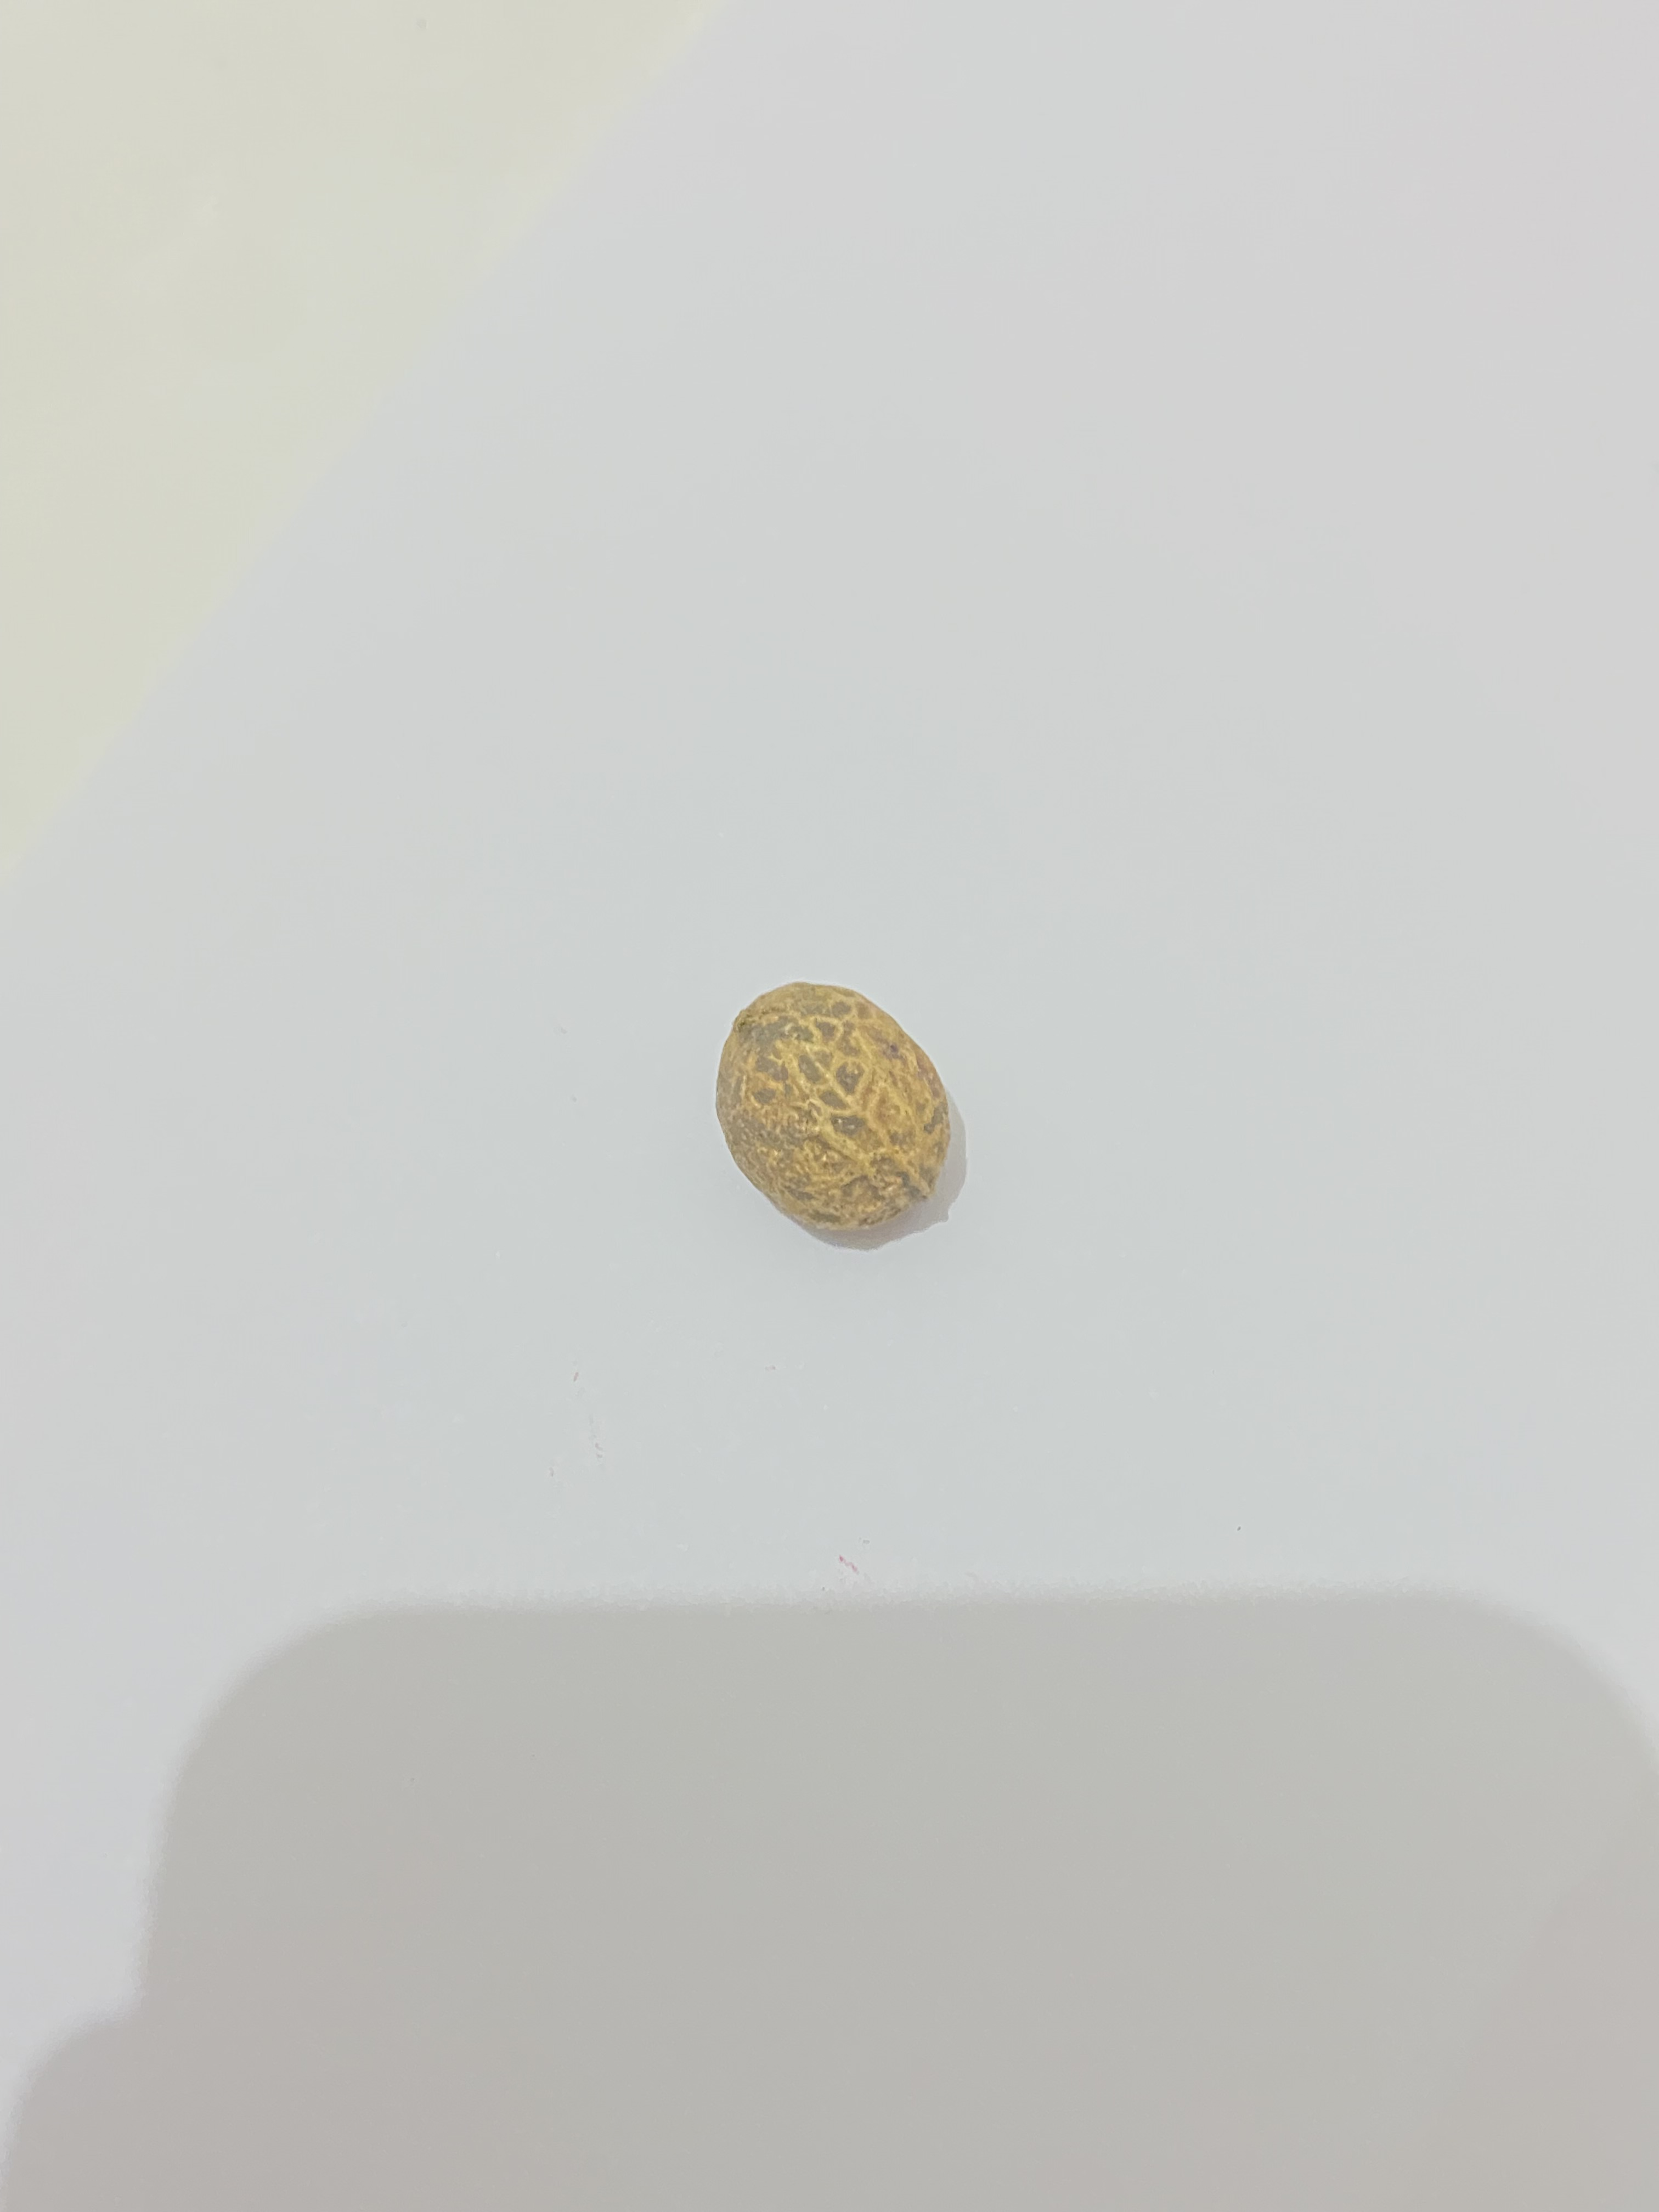kacang1: (666, 954, 1019, 1261)
